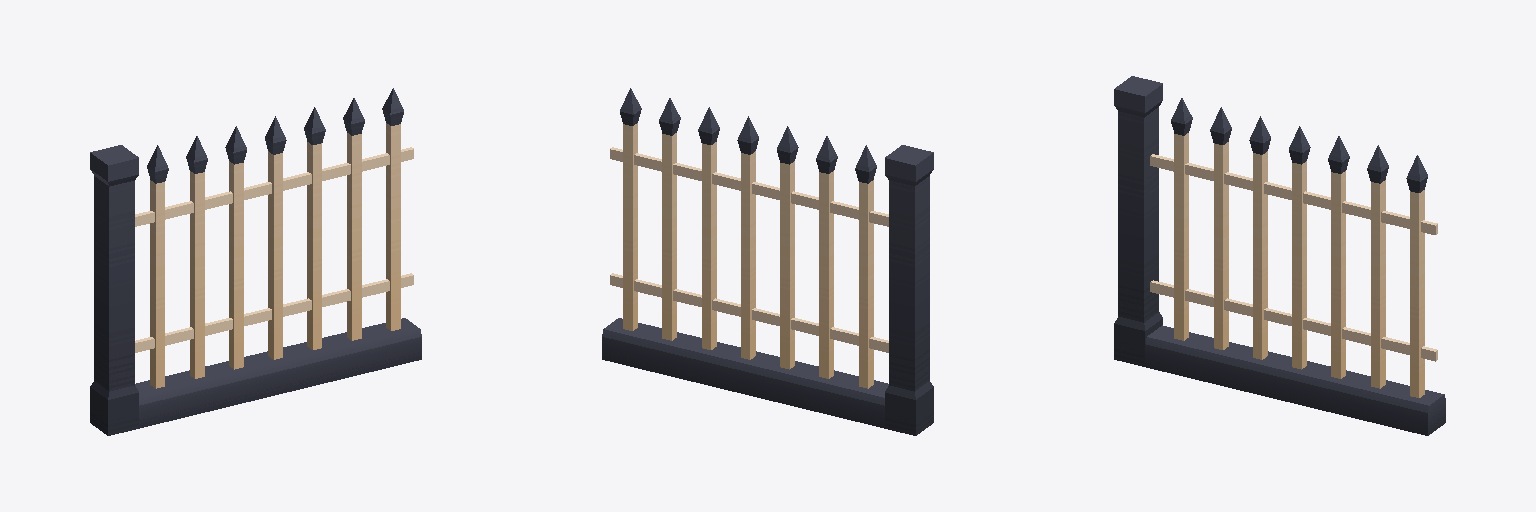
The picture shows the model from 3 angles: view 1: azimuth 30°, elevation 25°; view 2: azimuth 150°, elevation 25°; view 3: azimuth 330°, elevation 25°; orthographic projection.
Parts seen in each view (by area): view 1: iron-fence-border-column.006; view 2: iron-fence-border-column.006; view 3: iron-fence-border-column.006.
Boxes of the visible parts, box(x1,y1,x2,y2) form: iron-fence-border-column.006: box(90, 88, 421, 435); iron-fence-border-column.006: box(602, 88, 933, 435); iron-fence-border-column.006: box(1114, 76, 1445, 435).
Size of the model in its own units: 2.45 by 2.02 by 0.245.
Materials: 1 (1 with a texture image).